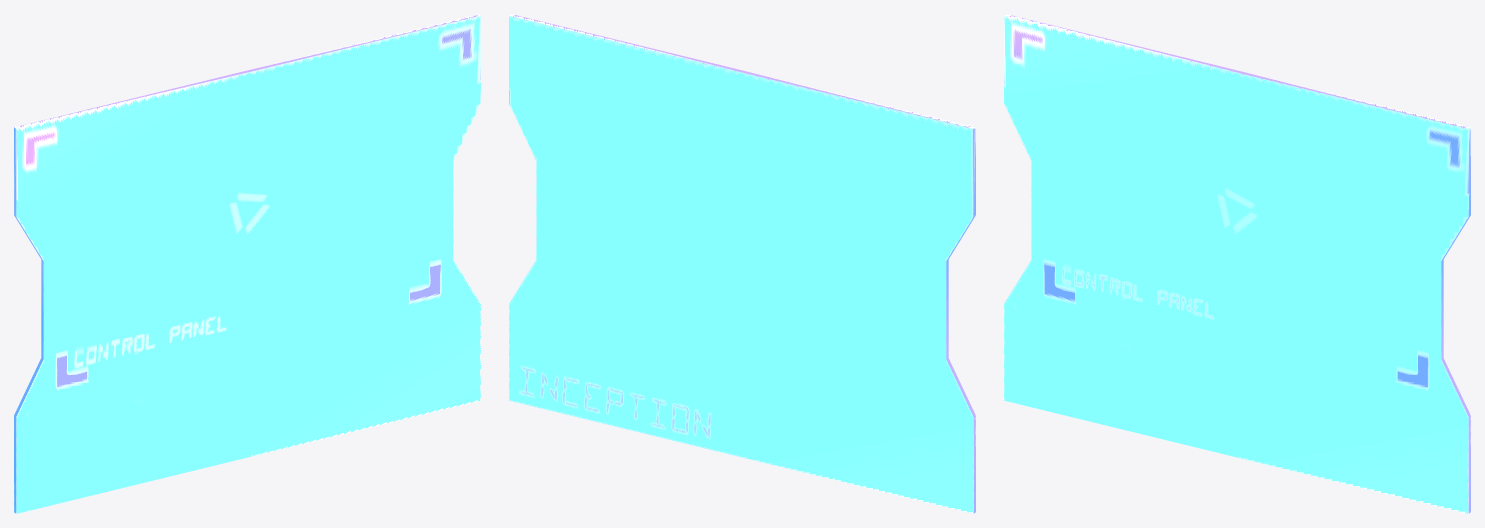
Rendered from terminal_screen.glb.
3 renders of one model, left to right at view 1: azimuth 30°, elevation 25°; view 2: azimuth 150°, elevation 25°; view 3: azimuth 330°, elevation 25°, orthographic.
Parts seen in each view (by area): view 1: Object052.001; view 2: Object052.001; view 3: Object052.001.
Part boxes in pixels (x1=…): Object052.001: x1=14, y1=14, x2=480, y2=513; Object052.001: x1=509, y1=14, x2=975, y2=513; Object052.001: x1=1004, y1=14, x2=1470, y2=513.
Bounding box in the file's own units: 1.17 × 0.9268 × 0.01.
1 material, 1 textured.
